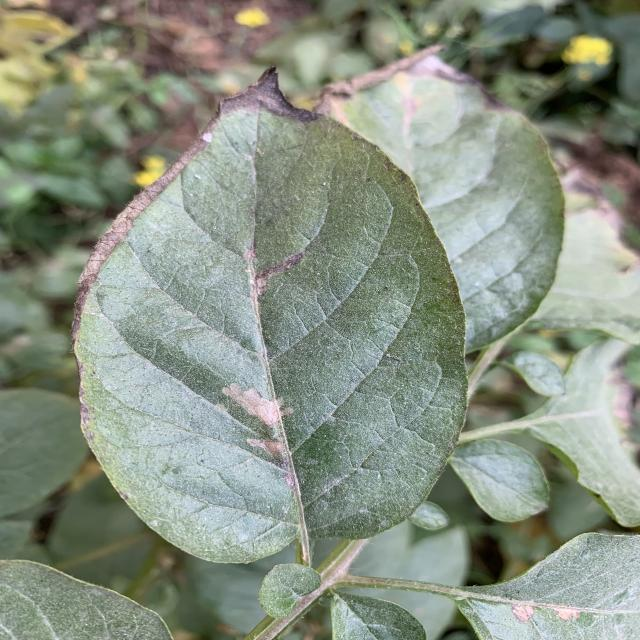lateblight: (77, 112, 220, 316), (222, 382, 293, 470), (218, 69, 320, 124), (252, 251, 303, 296), (233, 240, 257, 260)
